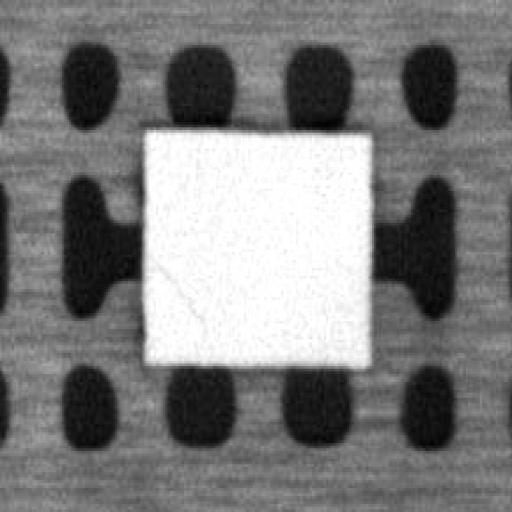DIE_CRACK: (151, 252, 202, 324)
